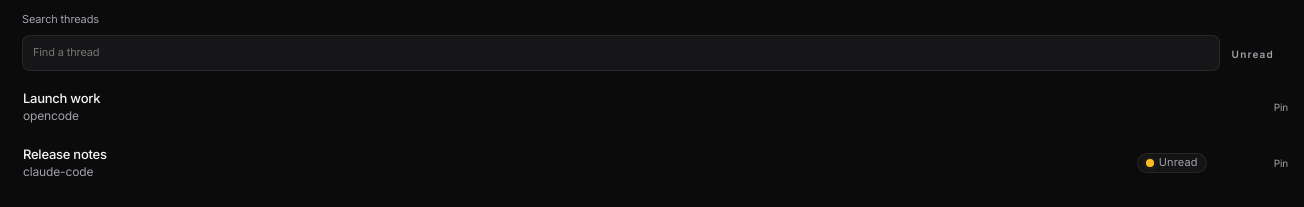
Test case: hides a read thread when Unread is pressed and restores it when turned off
Check: the button titled "Launch work" is shown, box [12,79,1218,135]
Check: the button titled "Release notes" is shown, box [12,135,1218,191]
Click the button "Unread" at (1253, 55), box [1224,38,1282,71]
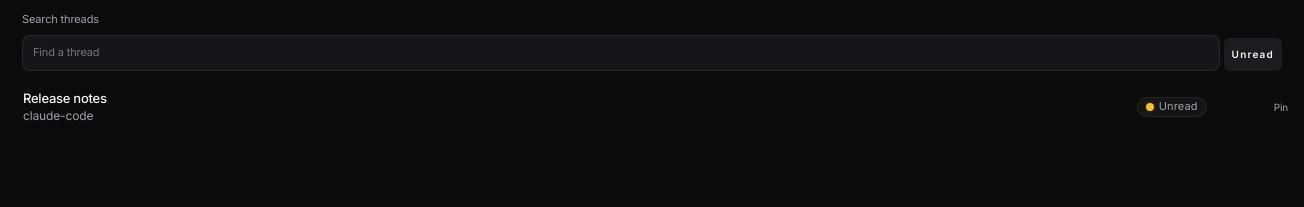
Check: the button titled "Release notes" is shown, box [12,79,1218,135]
Check: the button titled "Launch work" is gone
Click the button "Unread" at (1253, 55), box [1224,38,1282,71]
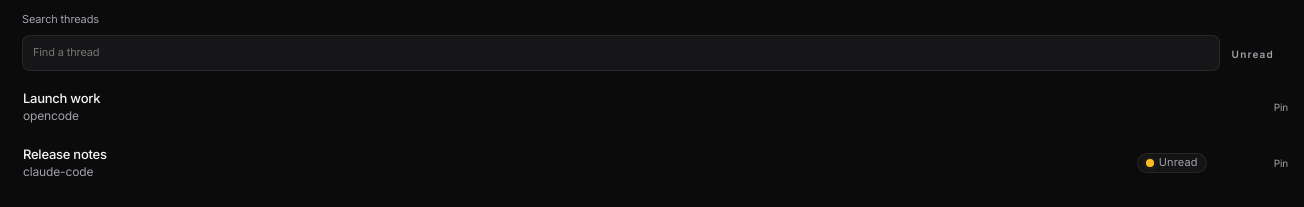
Check: the button titled "Release notes" is shown, box [12,135,1218,191]
Check: the button titled "Launch work" is shown, box [12,79,1218,135]
